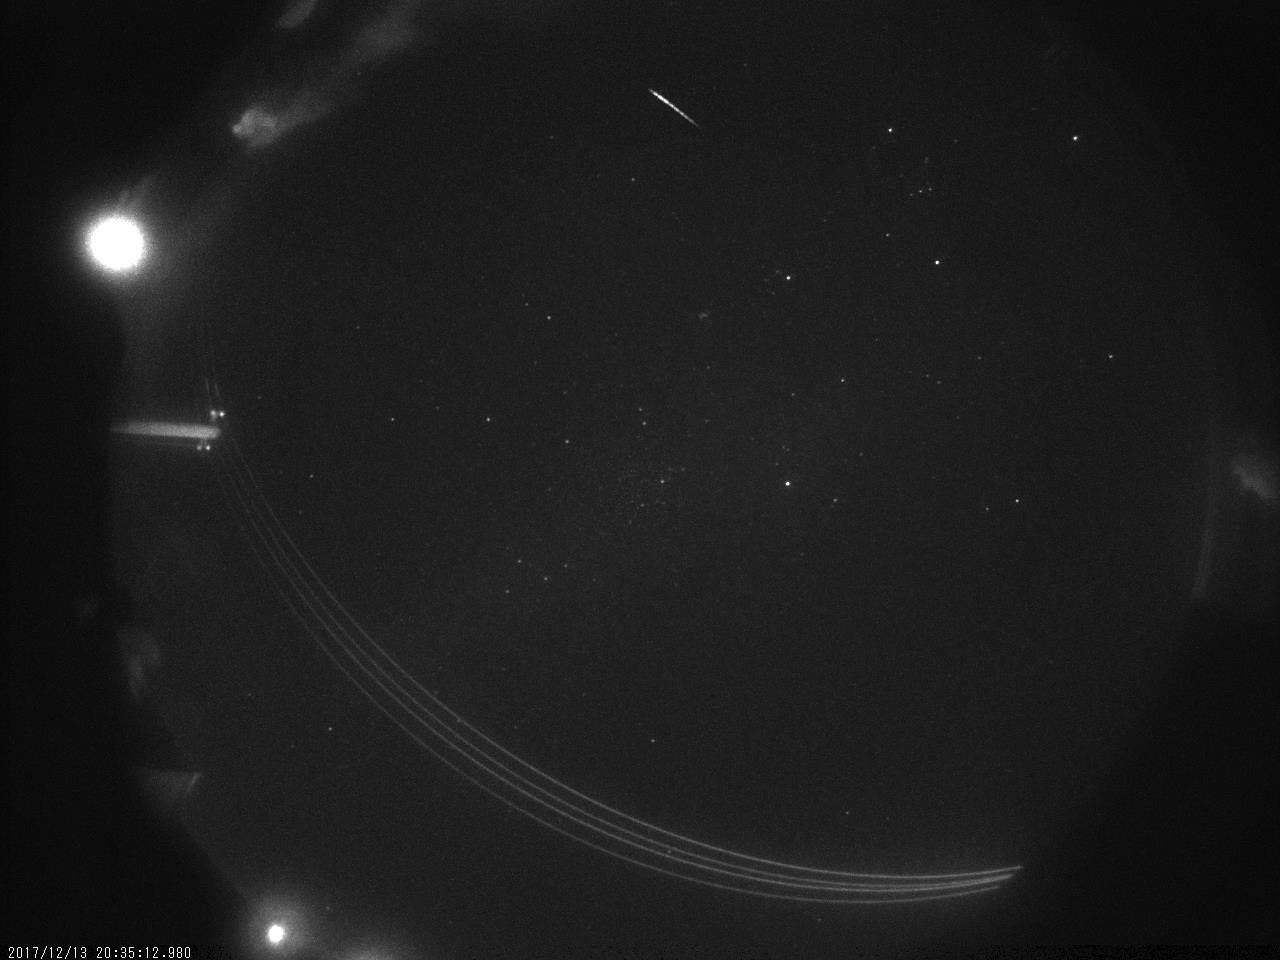meteor: (629, 76, 713, 151)
